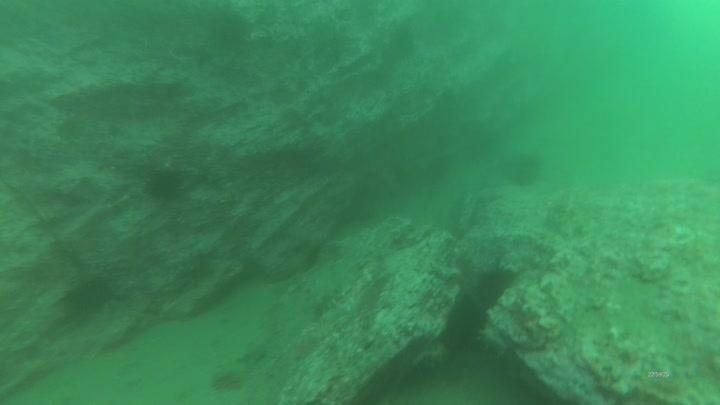echinus: (442, 293, 489, 351), (61, 273, 115, 320), (471, 261, 518, 312), (203, 6, 252, 52), (502, 148, 545, 189), (143, 165, 186, 203)
